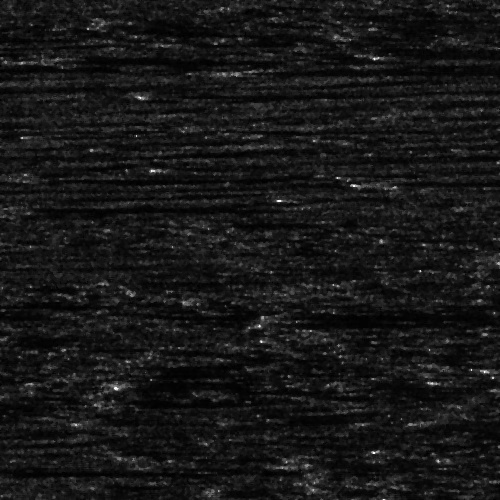object: (208, 299, 313, 328), (0, 202, 69, 213), (462, 364, 500, 373), (445, 377, 476, 386), (380, 179, 411, 182)
shadow: (261, 299, 468, 328), (12, 202, 263, 213), (0, 465, 223, 474), (0, 58, 202, 67), (460, 377, 500, 386), (396, 179, 500, 182)
